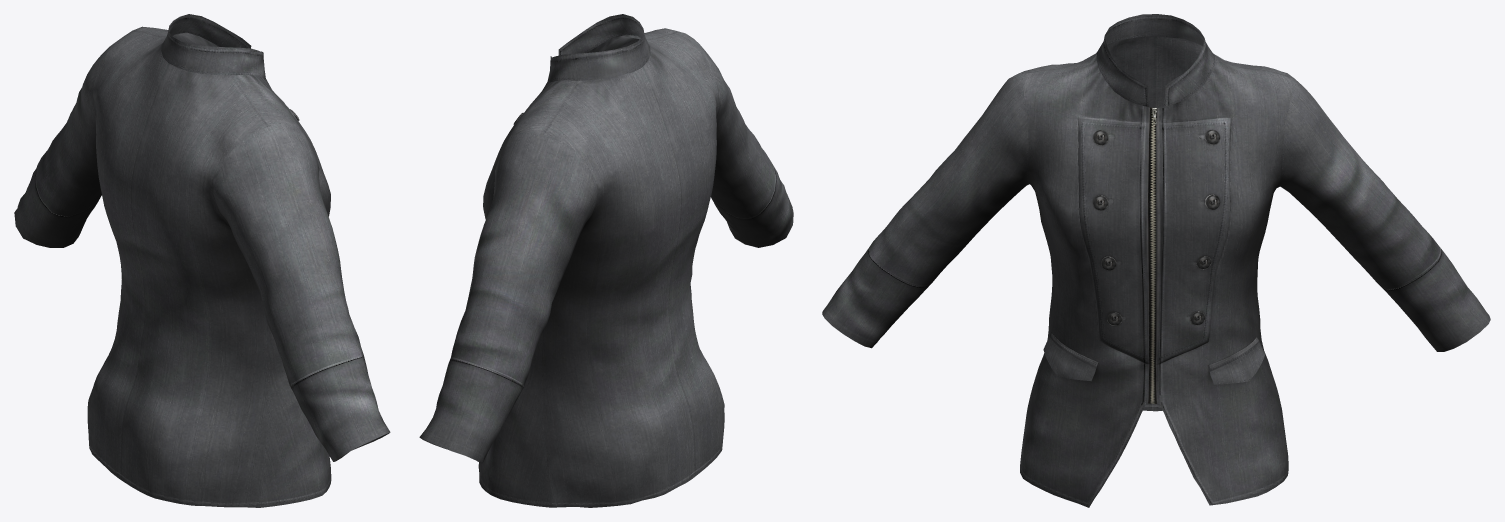
File: 3 fbx-mens-standing-collar-zipped-up-jacket.glb
The picture shows the model from 3 angles, left to right: view 1: azimuth 30°, elevation 25°; view 2: azimuth 150°, elevation 25°; view 3: azimuth 270°, elevation 25°; orthographic projection.
Visible parts, largest first — view 1: Jacket; view 2: Jacket; view 3: Jacket.
Part boxes in pixels (x1,y1,x2,y2): Jacket: (14, 14, 390, 507); Jacket: (419, 14, 793, 507); Jacket: (822, 14, 1490, 507).
Bounding box in the file's own units: 0.3194 × 0.713 × 0.9934.
4 materials, 4 textured.
